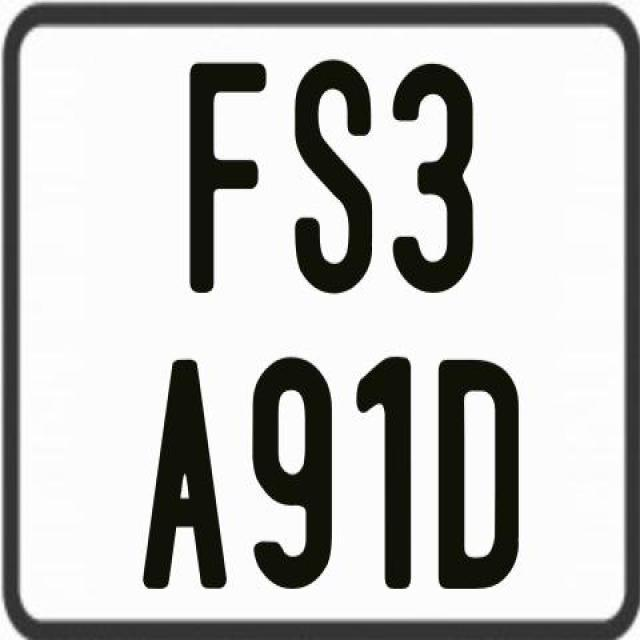1: (356, 354, 416, 590)
3: (389, 64, 471, 301)
9: (249, 357, 336, 590)
A: (138, 356, 224, 588)
D: (434, 360, 518, 589)
F: (186, 63, 266, 300)
S: (294, 59, 378, 294)
